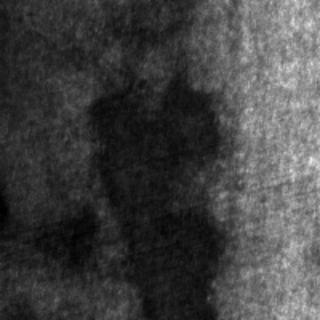patches: (90, 73, 226, 314), (26, 204, 100, 272)
